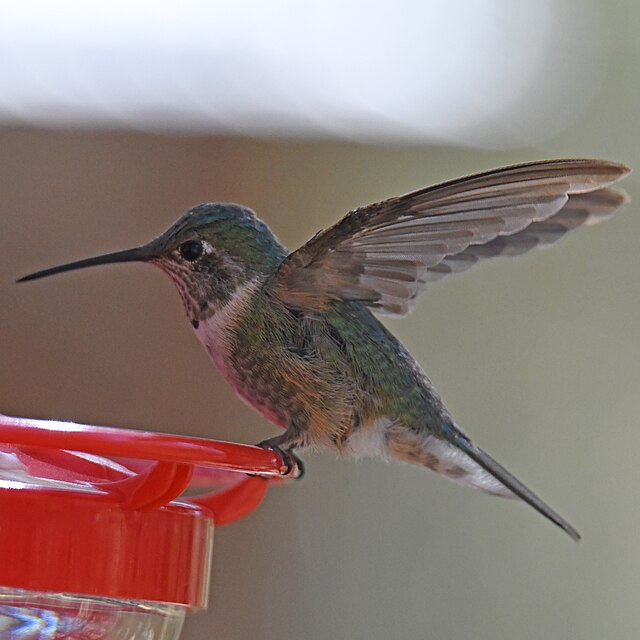selasphorus platycercus: (15, 159, 631, 540)
